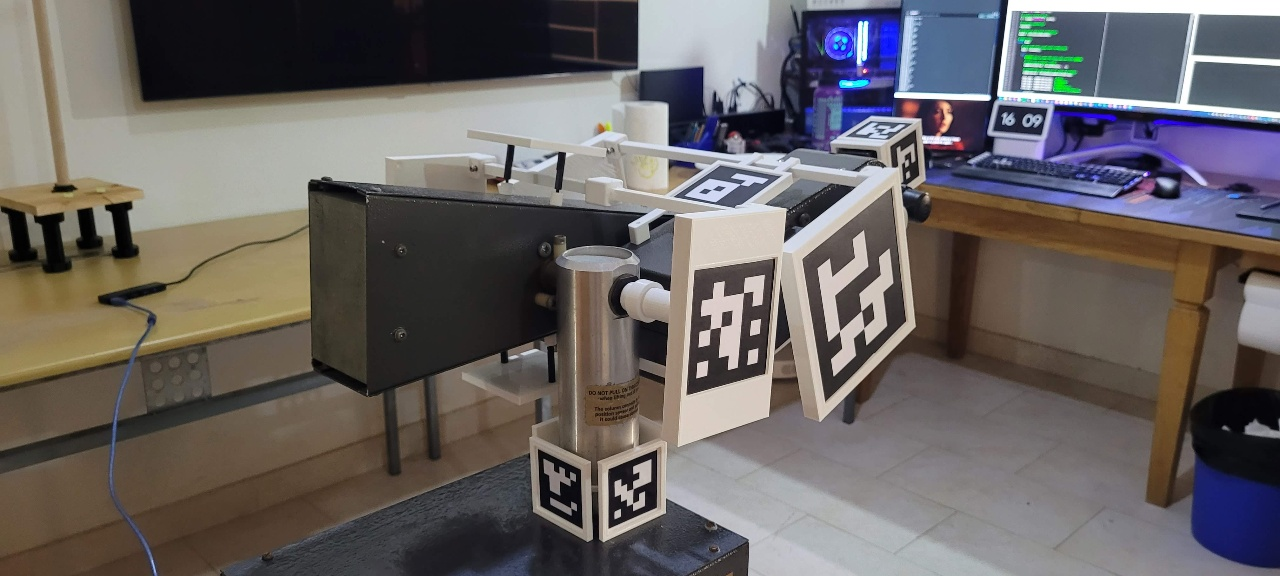Robot: (307, 114, 928, 543)
